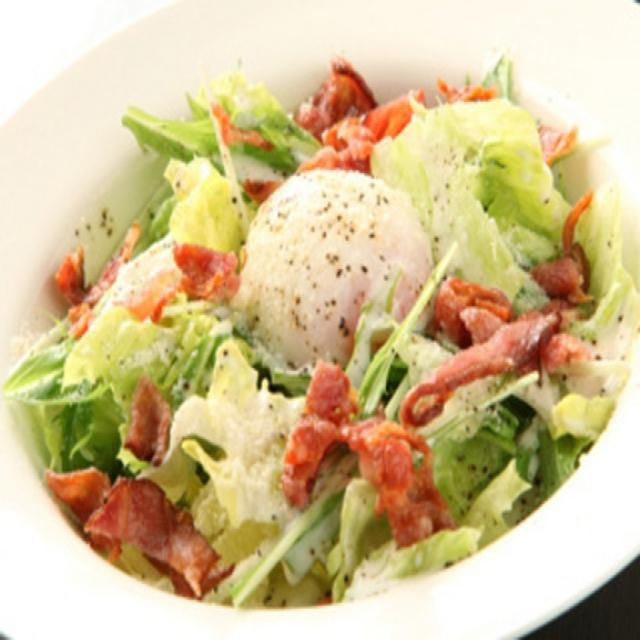蔬菜料理: (11, 13, 623, 618)
